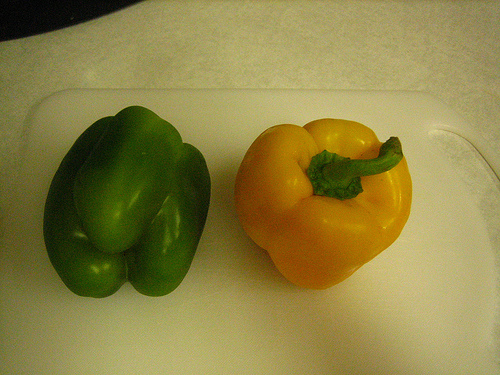capsicum: (44, 103, 214, 300), (234, 118, 413, 290)
